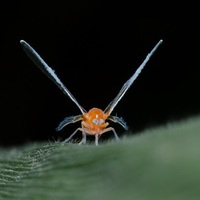insect: (20, 39, 162, 144)
